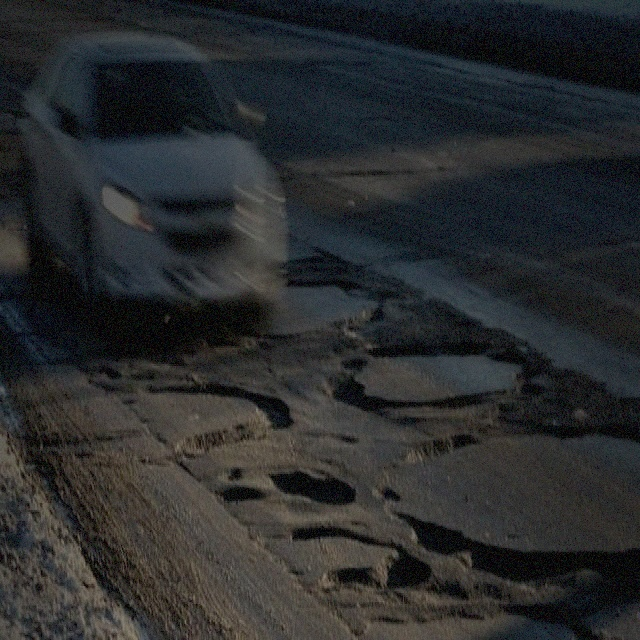pothole: (328, 332, 547, 414), (142, 368, 296, 454), (285, 519, 430, 597), (373, 476, 471, 566), (370, 420, 478, 469), (267, 462, 357, 508), (292, 266, 364, 296), (217, 474, 263, 505), (89, 354, 122, 378)
